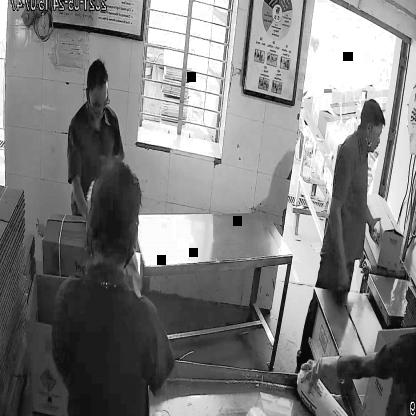goggles: (86, 93, 112, 115)
